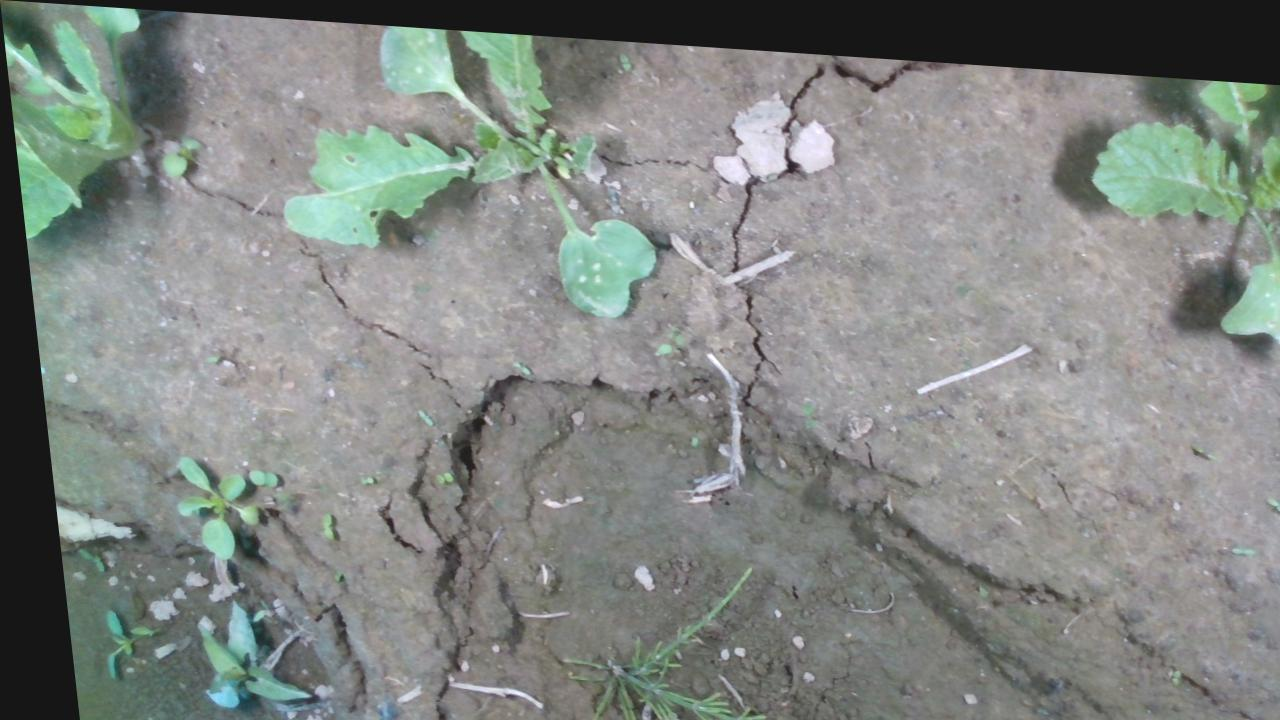weed: (640, 318, 683, 348), (235, 463, 269, 485), (1253, 477, 1279, 500), (305, 506, 323, 539), (404, 396, 426, 421), (502, 354, 525, 370), (617, 42, 632, 62), (420, 465, 443, 478), (1217, 528, 1246, 538), (346, 469, 364, 482)
